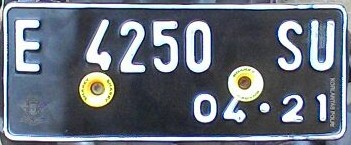plate: (1, 1, 346, 140)
